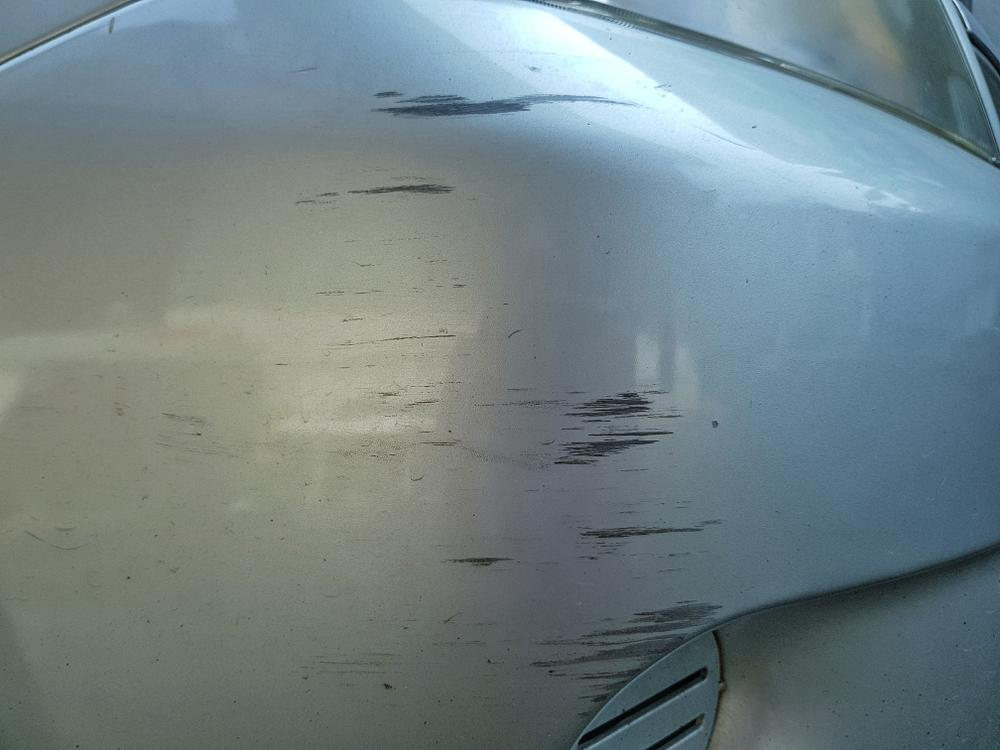scratch: (301, 71, 729, 713)
